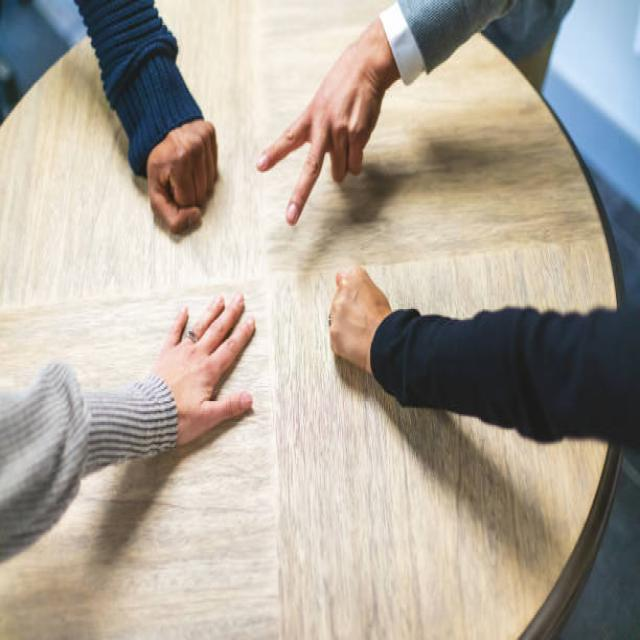paper: (122, 288, 274, 483)
rock: (121, 96, 243, 252), (311, 251, 419, 388)
scirssors: (254, 71, 405, 238)
